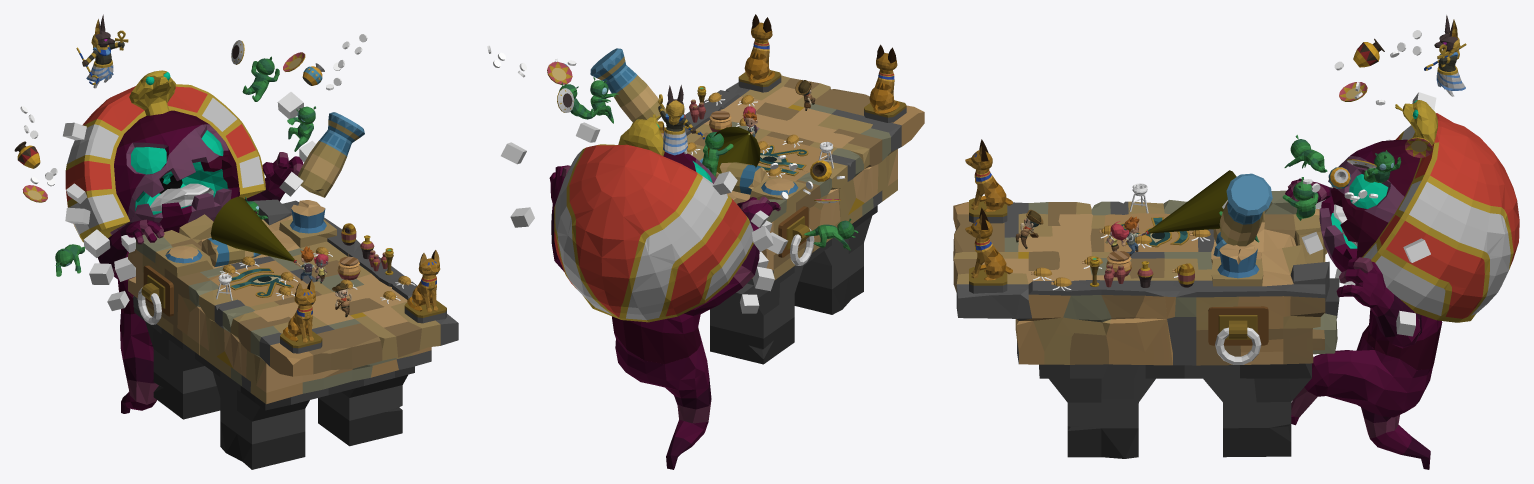
Rendered from 0092_explorers_egypt.fbx.
3 renders of one model, left to right at view 1: azimuth 30°, elevation 25°; view 2: azimuth 150°, elevation 25°; view 3: azimuth 270°, elevation 25°, orthographic. The views are drawn at different scales.
Parts seen in each view (by area): view 1: Plate02, Head (×2), Plate03, Plate01, Leg, Pillar02, Cone001, Body, arm_R01, arm_L01, Brick03 (×2), Pattern (+8 smaller); view 2: Head (×2), Plate02, Plate03, Plate01, Leg, Body, Pillar02, arm_R01, Cone001, Pillar01, Pattern, arm_L01 (+7 smaller); view 3: Plate02, Head, Plate01, Plate03, Leg, Body, arm_L01, Pillar02, Cone001, Upper_Body001, Upper_Body, Ring01 (+2 smaller).
Part boxes in pixels (x1,y1,x2,y2): Plate02: (199,250,458,404); Head (×2): (65,14,265,242); Plate03: (133,296,414,469); Plate01: (128,199,361,355); Leg: (120,311,158,413); Pillar02: (297,112,364,197); Cone001: (210,196,294,261); Body: (110,187,239,314); arm_R01: (97,219,164,281); arm_L01: (244,152,303,201); Brick03 (×2): (83,92,303,257); Pattern: (228,268,293,297); Head (×2): (554,85,753,322); Plate02: (683,70,924,238); Plate03: (710,205,877,364); Plate01: (661,133,831,285); Leg: (614,332,711,469); Body: (612,308,700,364); Pillar02: (590,48,665,122); arm_R01: (693,196,780,315); Cone001: (707,127,760,173); Pillar01: (699,158,768,194); Pattern: (757,145,808,176); arm_L01: (549,165,570,271); Plate02: (953,198,1172,365); Head: (1328,100,1519,322); Plate01: (1163,190,1337,365); Plate03: (1039,278,1339,458); Leg: (1291,333,1433,469); Body: (1319,196,1442,369); arm_L01: (1336,257,1421,348); Pillar02: (1219,173,1272,246); Cone001: (1148,170,1236,233); Upper_Body001: (965,207,994,278); Upper_Body: (965,139,994,209); Ring01: (1215,327,1261,364).
Size of the model in its own units: 33.14 by 35.96 by 41.58.
